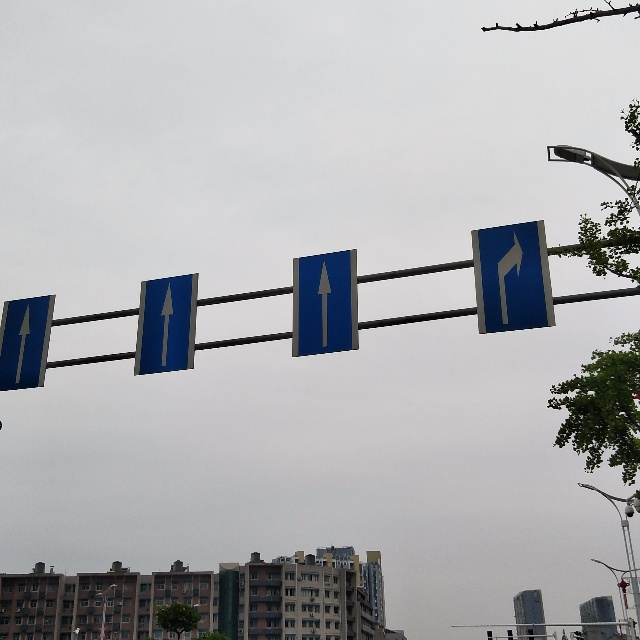right: (470, 221, 557, 337)
straight: (291, 248, 361, 357), (135, 273, 200, 375), (1, 294, 57, 393)
